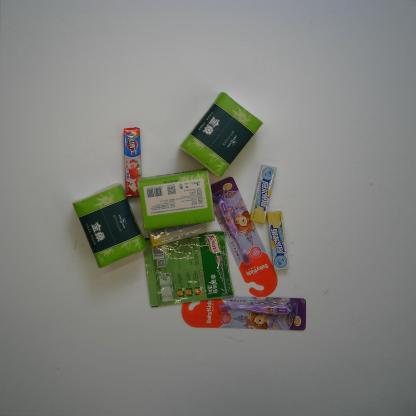Candy: (250, 164, 278, 224), (123, 126, 143, 198), (266, 211, 290, 271), (148, 223, 207, 247)
Personal Hygiene: (210, 177, 278, 298), (181, 294, 307, 332)
Seasoner: (143, 230, 235, 309)
Tissue: (178, 91, 265, 179), (70, 181, 148, 268), (138, 169, 216, 231)
